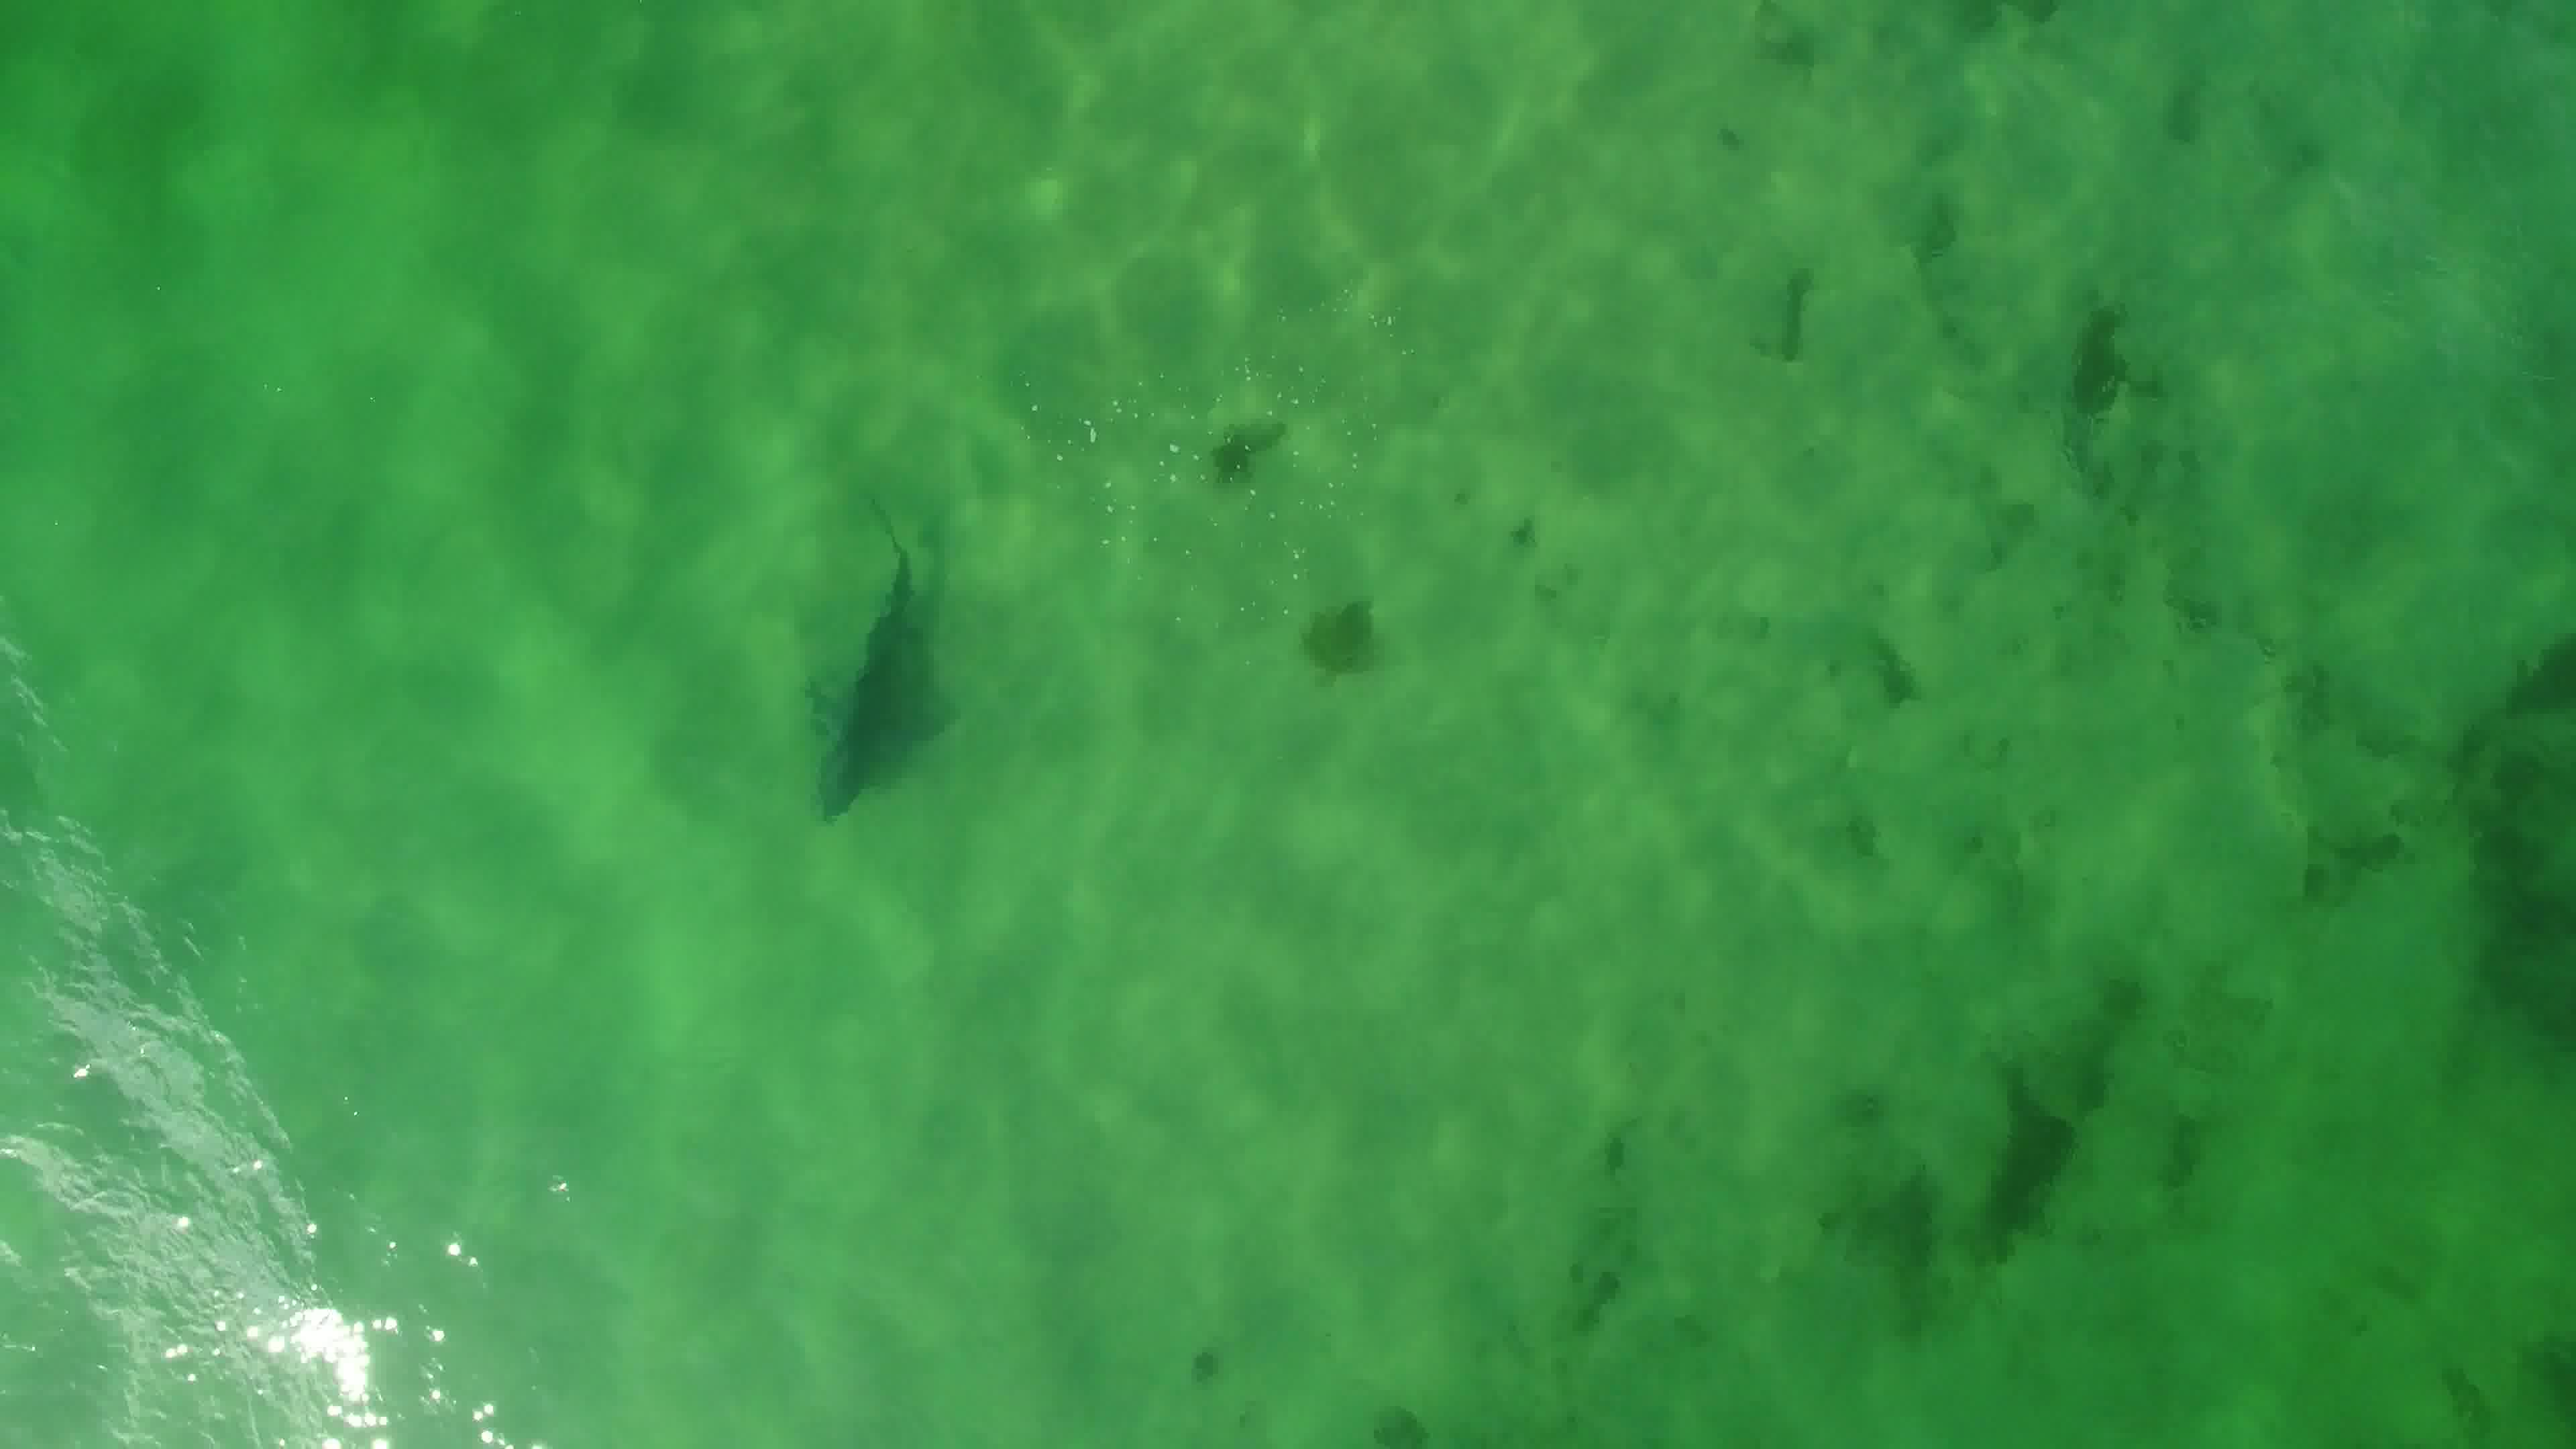shark: (787, 492, 961, 833)
